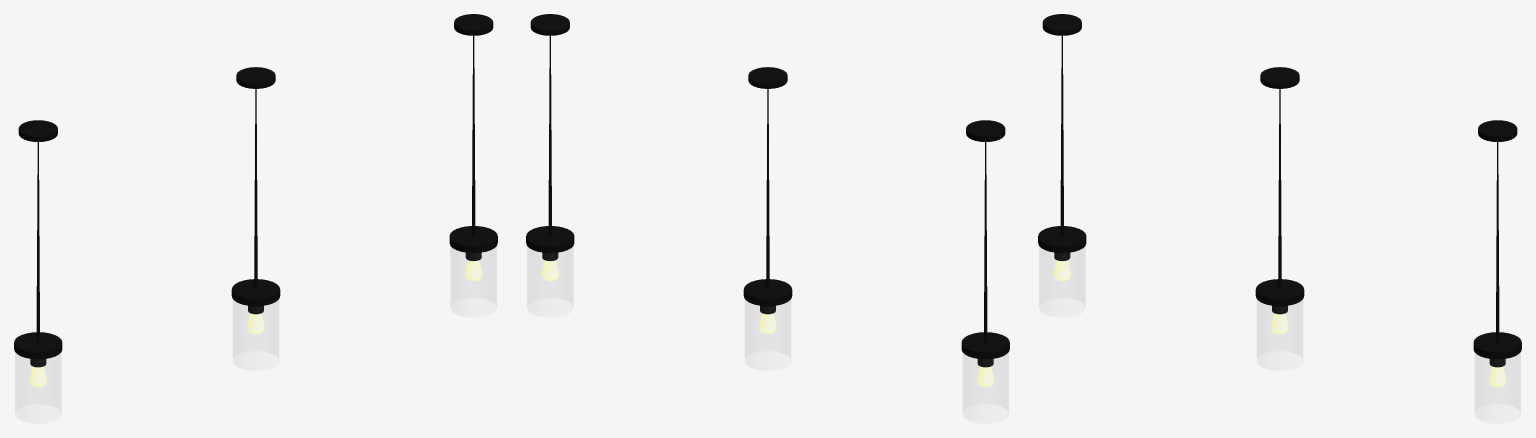
Rendered from Light_ZireMidnightBlack.glb.
3 views of the same model, side by side, from view 1: azimuth 30°, elevation 25°; view 2: azimuth 150°, elevation 25°; view 3: azimuth 330°, elevation 25° (orthographic).
Visible parts, largest first — view 1: Zire Midnight Black; view 2: Zire Midnight Black; view 3: Zire Midnight Black.
Part boxes in pixels (left/top/right/bottom): Zire Midnight Black: left=14, top=14, right=497, bottom=411; Zire Midnight Black: left=526, top=14, right=1009, bottom=411; Zire Midnight Black: left=1038, top=14, right=1521, bottom=411.
Bounding box in the file's own units: 2.66 × 1.52 × 0.2338.
